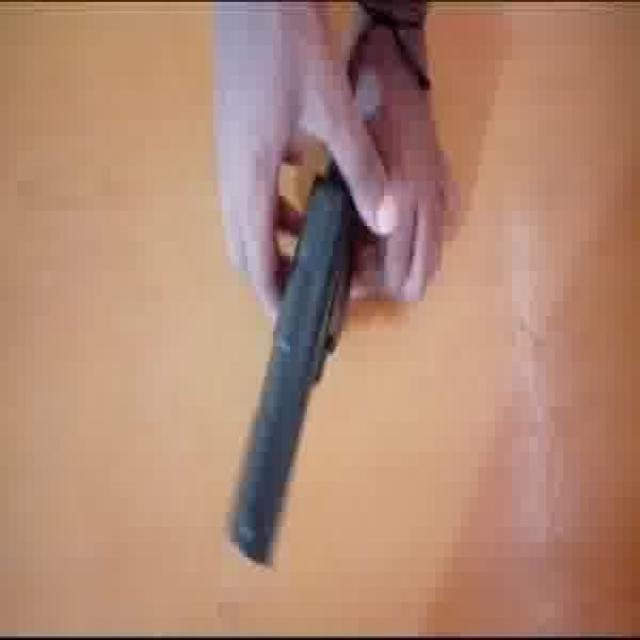weapon: (210, 132, 377, 566)
